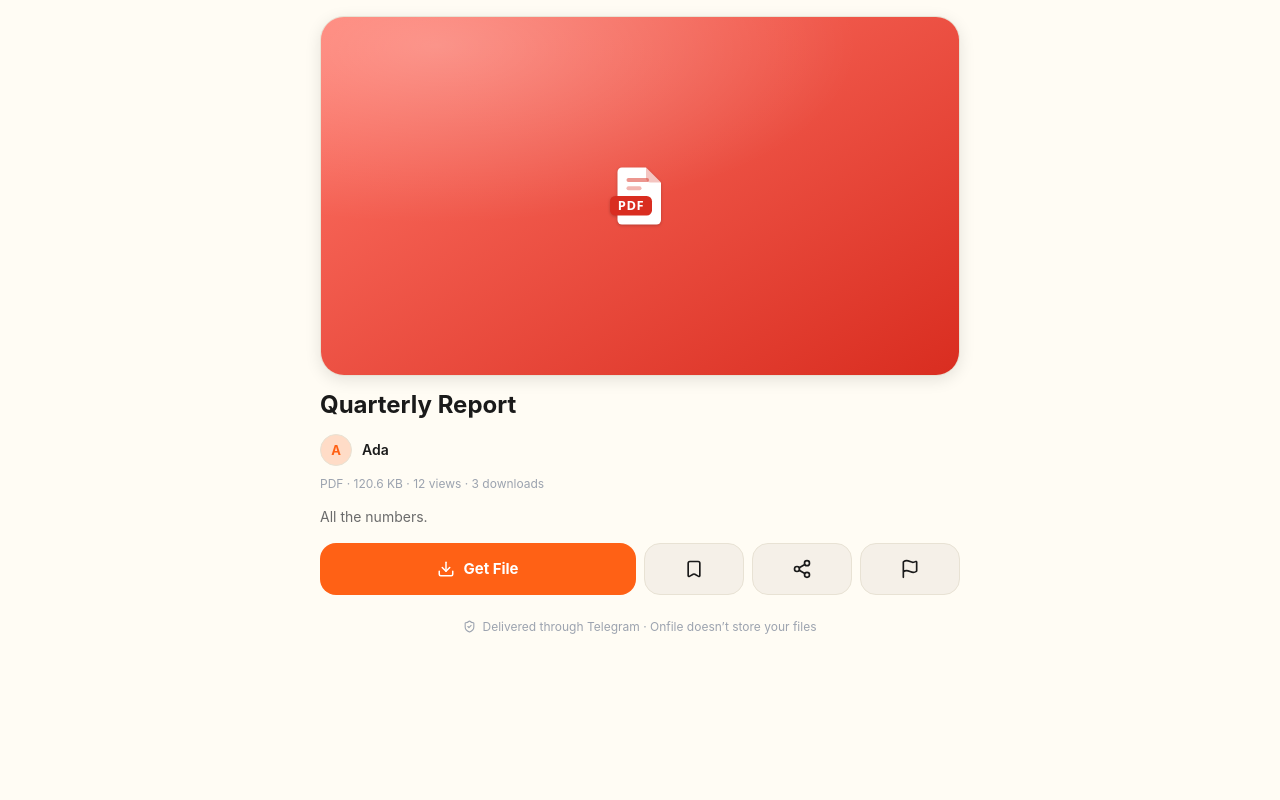
standalone file mode — Save / Share / Report › Report targets the file only (no playlist choice) and sends its public slug
Click the button with test id "report" at [910, 569], box [860, 543, 960, 595]
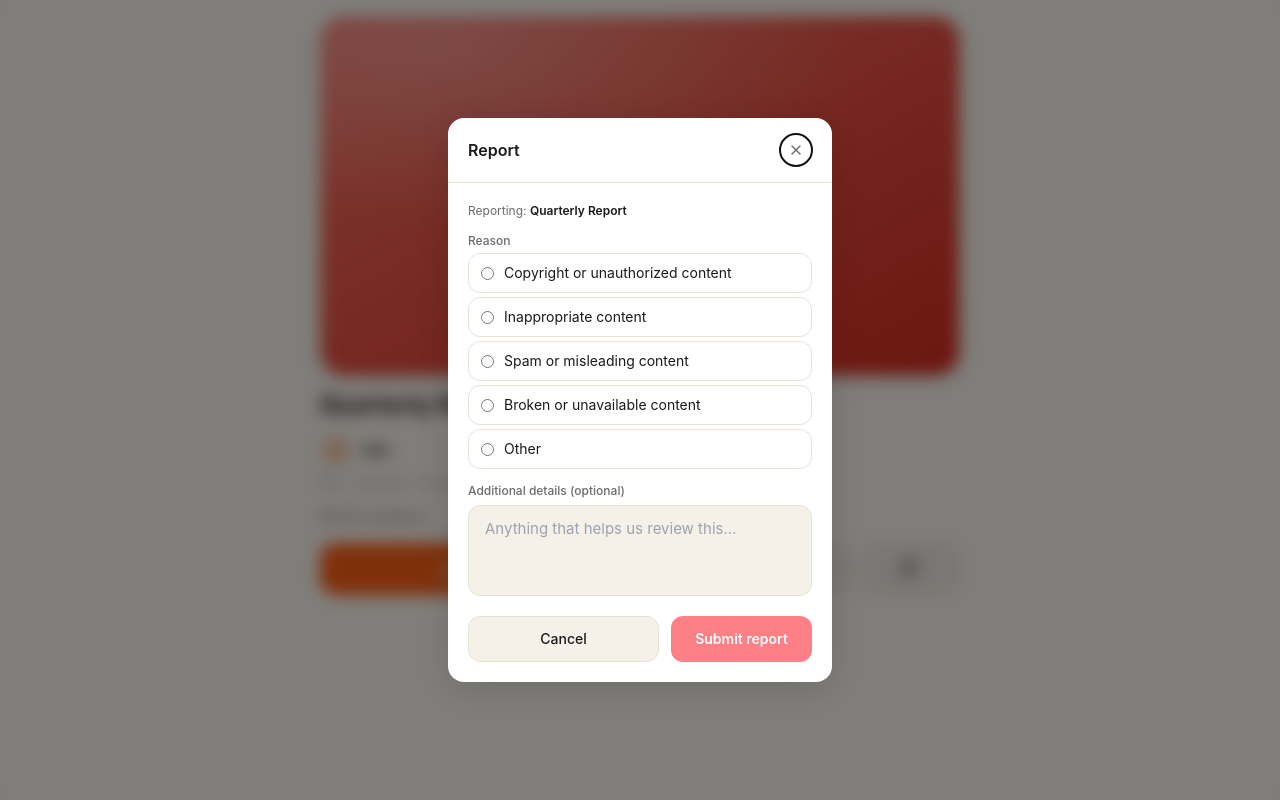
Check: the text "Quarterly Report" is shown, box [320, 390, 516, 419]
Click the radio button named "report-reason" at [488, 405], box [481, 399, 494, 412]
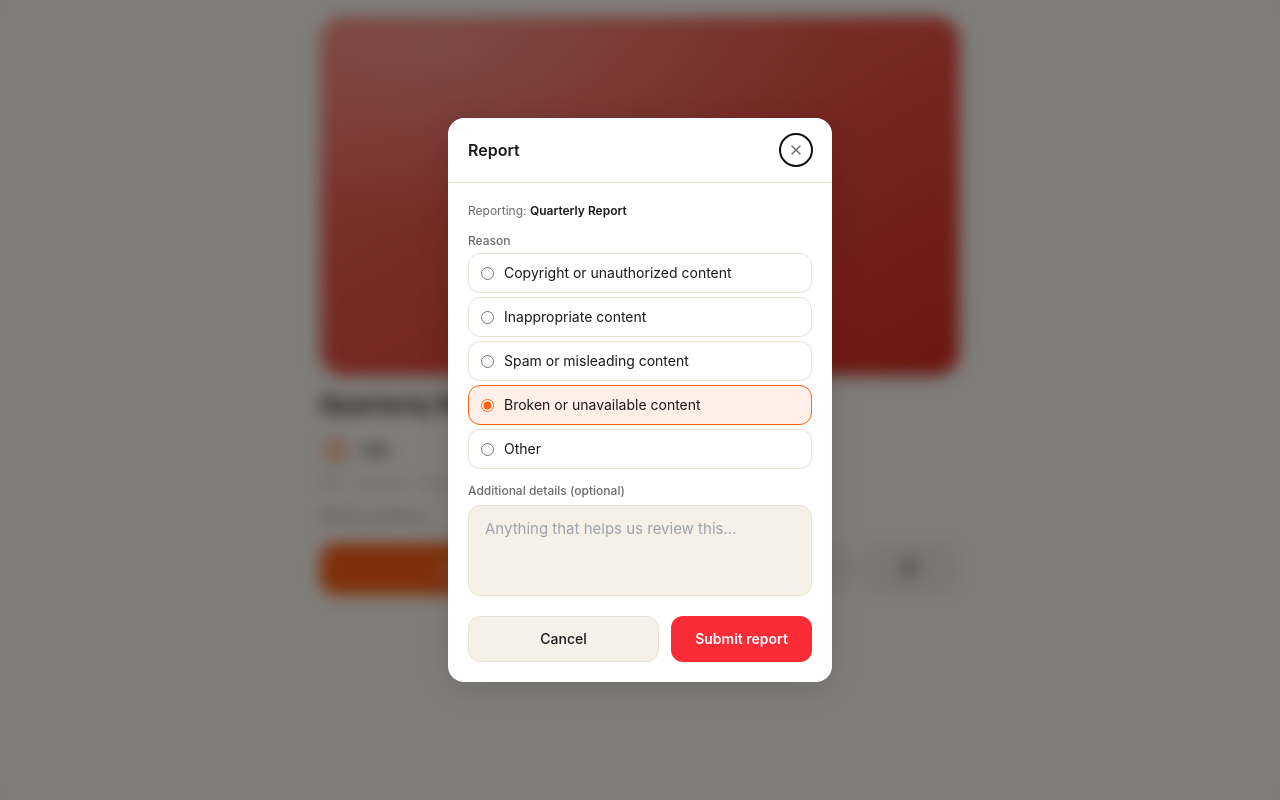
Submit the form, box [468, 203, 812, 662]
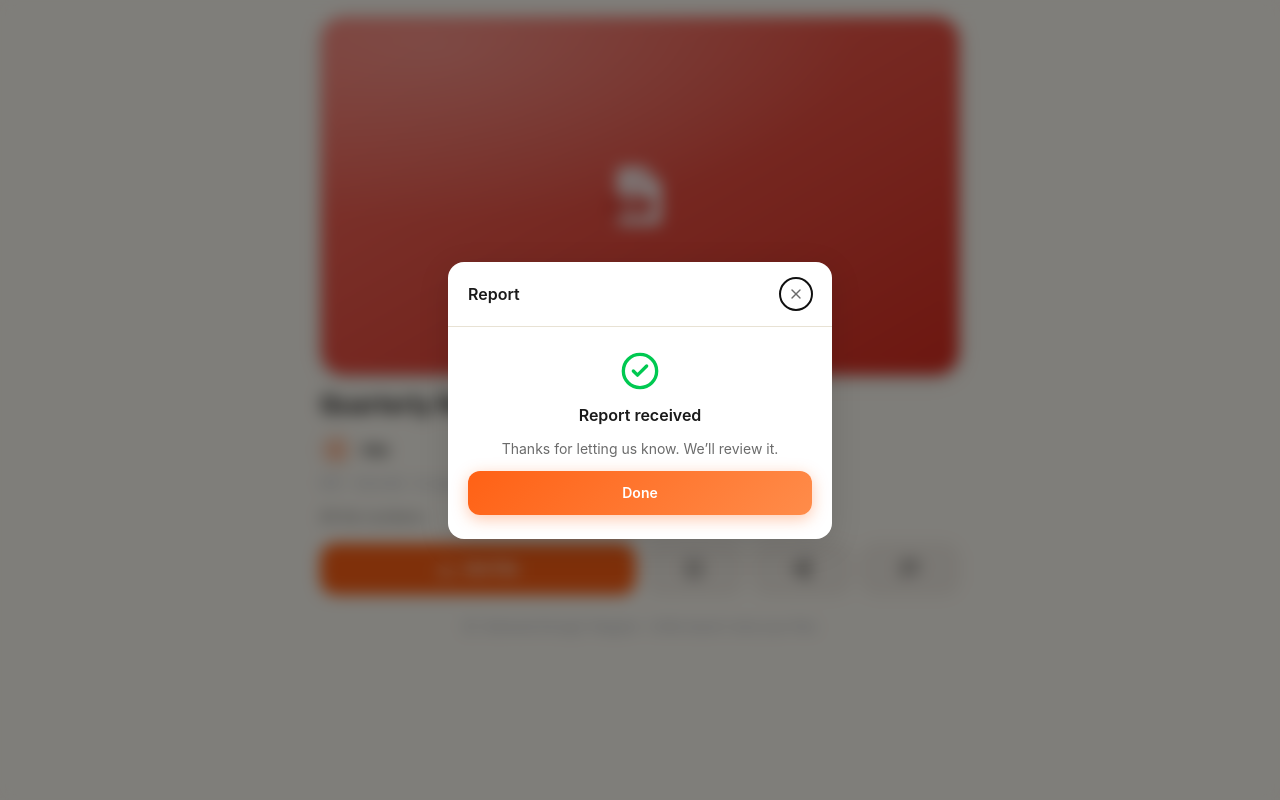
Check: the message "Report received Thanks for letting us know. We’ll review it. Done" is shown, box [468, 346, 812, 518]
